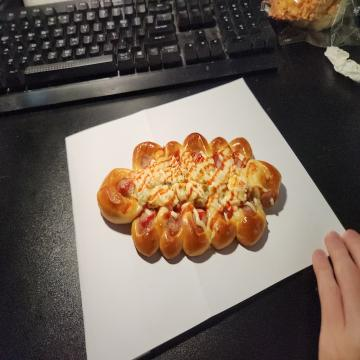pizza_bread: (96, 131, 283, 258)
